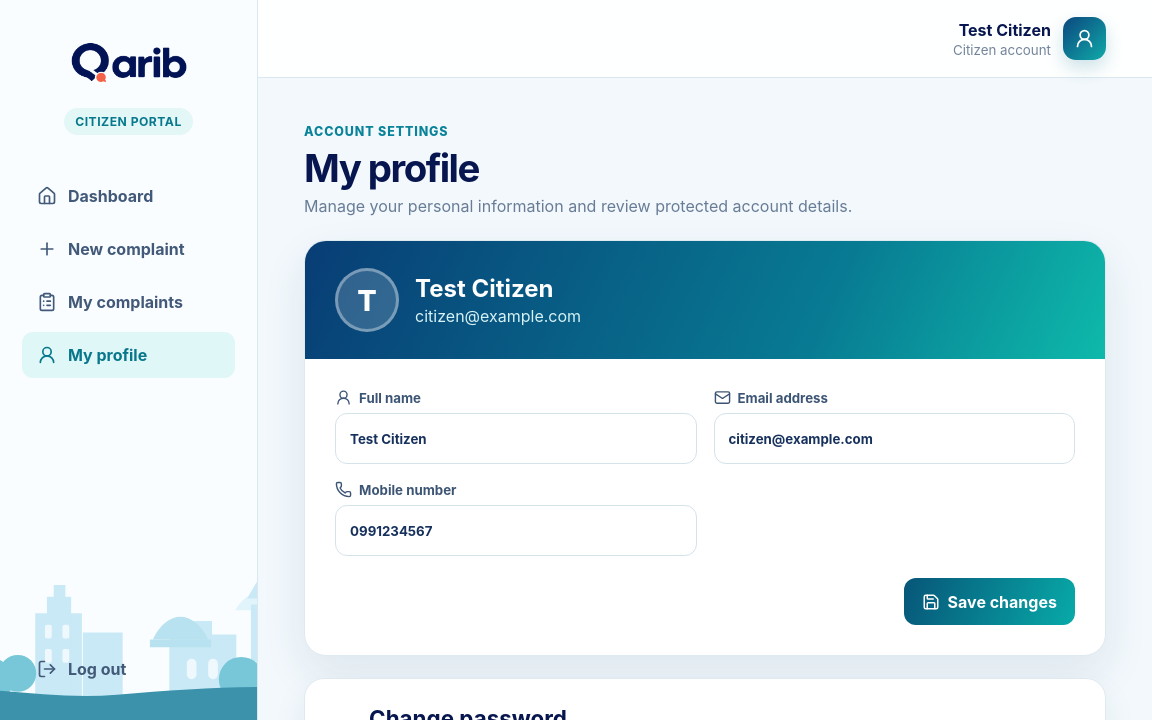
Test: authentication pages › lets a citizen open and update the shared portal profile
Replace the text in the field labelled "Full name" with "Updated Citizen" at (516, 438), box [335, 413, 696, 464]
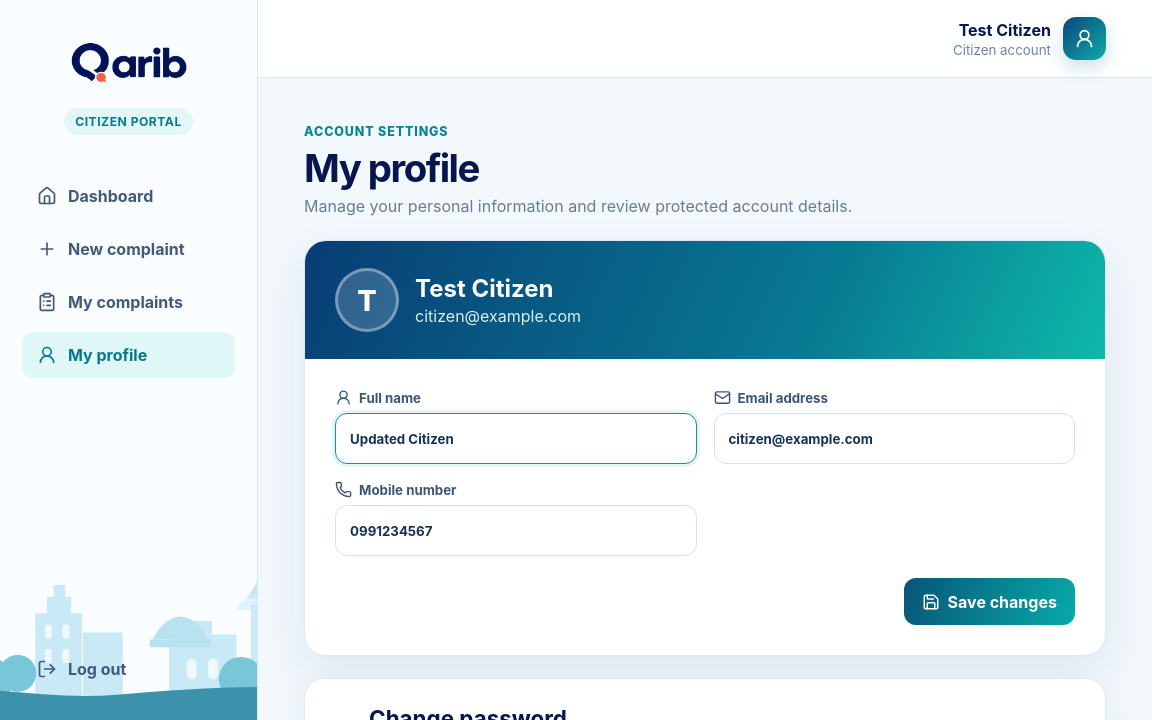
Click the button "Save changes" at (989, 602), box [904, 578, 1075, 625]
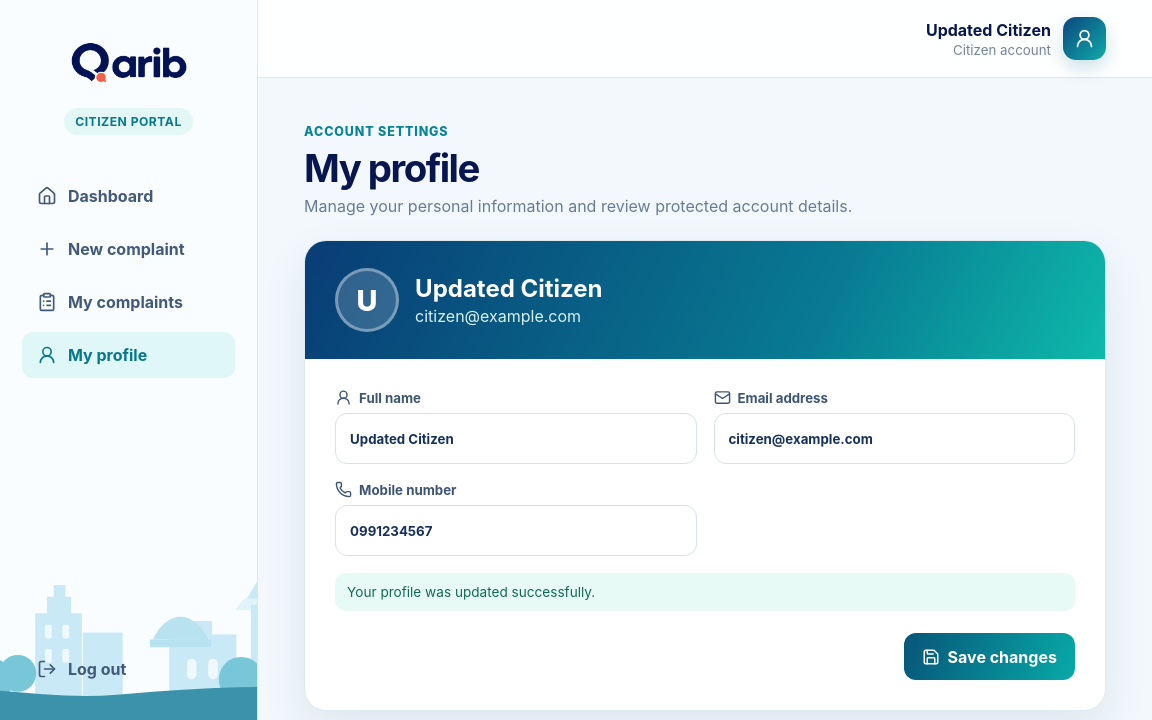
Expected: the text "Your profile was updated successfully." is shown, [335, 573, 1075, 611]
